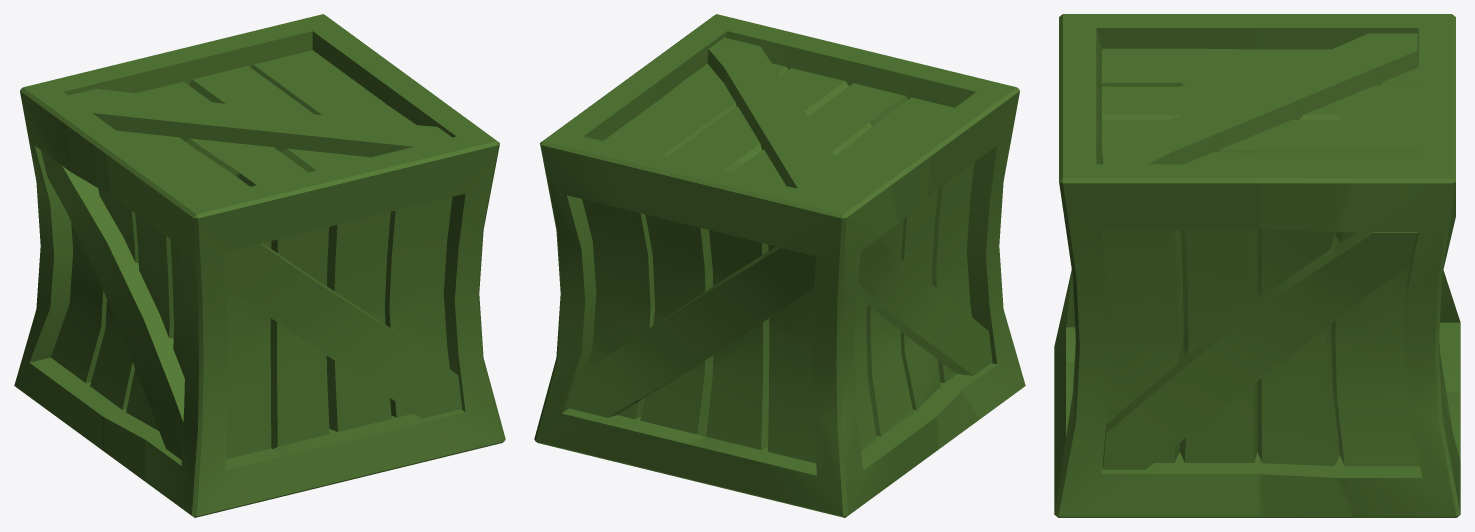
The model's file is BoxNitro.fbx.
3 views of the same model, side by side, from view 1: azimuth 30°, elevation 25°; view 2: azimuth 150°, elevation 25°; view 3: azimuth 270°, elevation 25° (orthographic). The views are drawn at different scales.
Visible parts, largest first — view 1: BoxNitro; view 2: BoxNitro; view 3: BoxNitro.
Part boxes in pixels (left/top/right/bottom): BoxNitro: left=14, top=14, right=505, bottom=517; BoxNitro: left=534, top=14, right=1025, bottom=517; BoxNitro: left=1054, top=14, right=1460, bottom=517.
Size of the model in its own units: 4.68 by 4.29 by 4.68.
